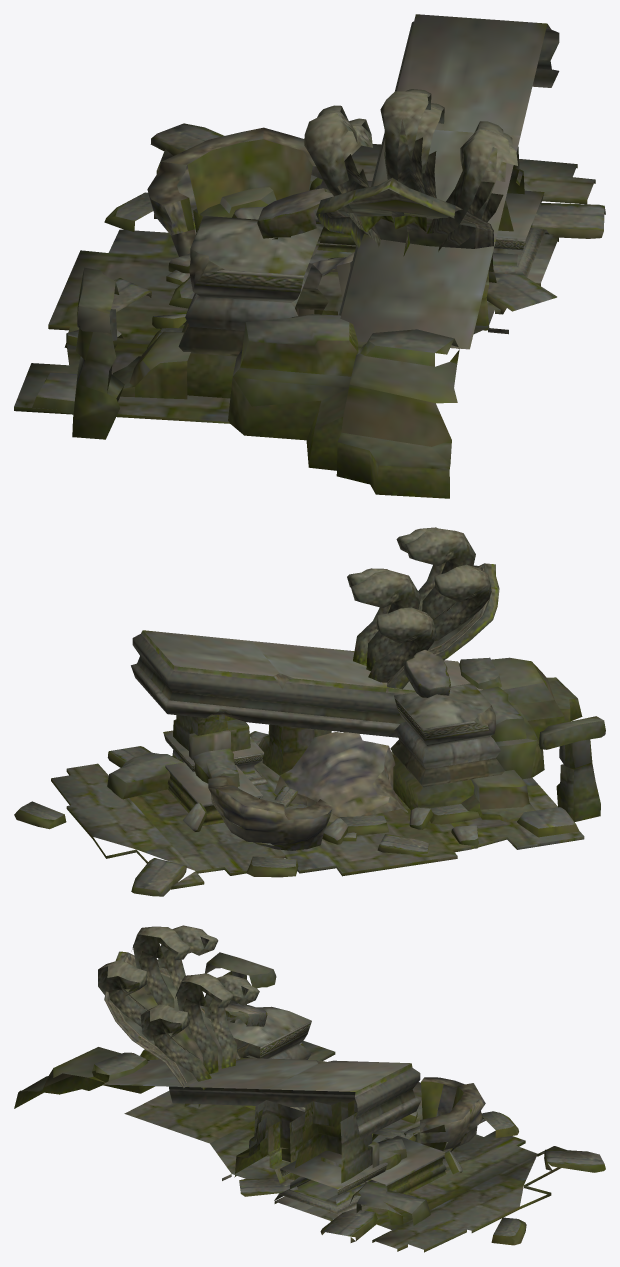
The model's file is S2_Build_XSC064_H1.FBX.
3 views of the same model, one above another, from view 1: azimuth 30°, elevation 25°; view 2: azimuth 150°, elevation 25°; view 3: azimuth 270°, elevation 25° (orthographic). The views are drawn at different scales.
Visible parts, largest first — view 1: S2_Build_XSC064_H1; view 2: S2_Build_XSC064_H1; view 3: S2_Build_XSC064_H1.
Part boxes in pixels (left/top/right/bottom): S2_Build_XSC064_H1: left=14, top=14, right=605, bottom=498; S2_Build_XSC064_H1: left=14, top=527, right=605, bottom=896; S2_Build_XSC064_H1: left=14, top=925, right=605, bottom=1252.
Bounding box in the file's own units: 2093 × 953 × 2415.
